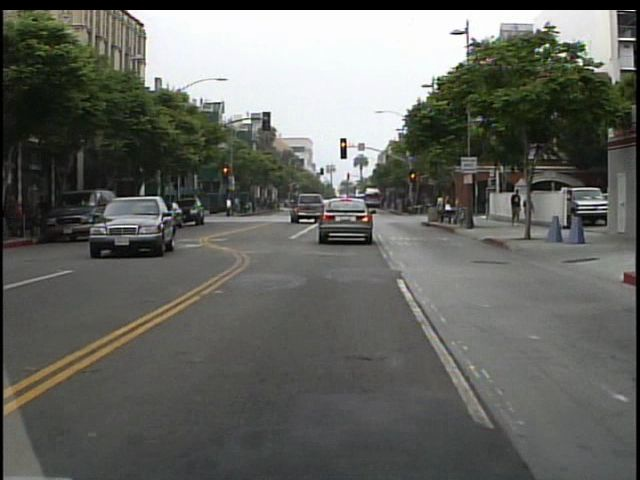person: (432, 189, 451, 225), (509, 186, 524, 229), (521, 190, 535, 227), (225, 193, 235, 219)
